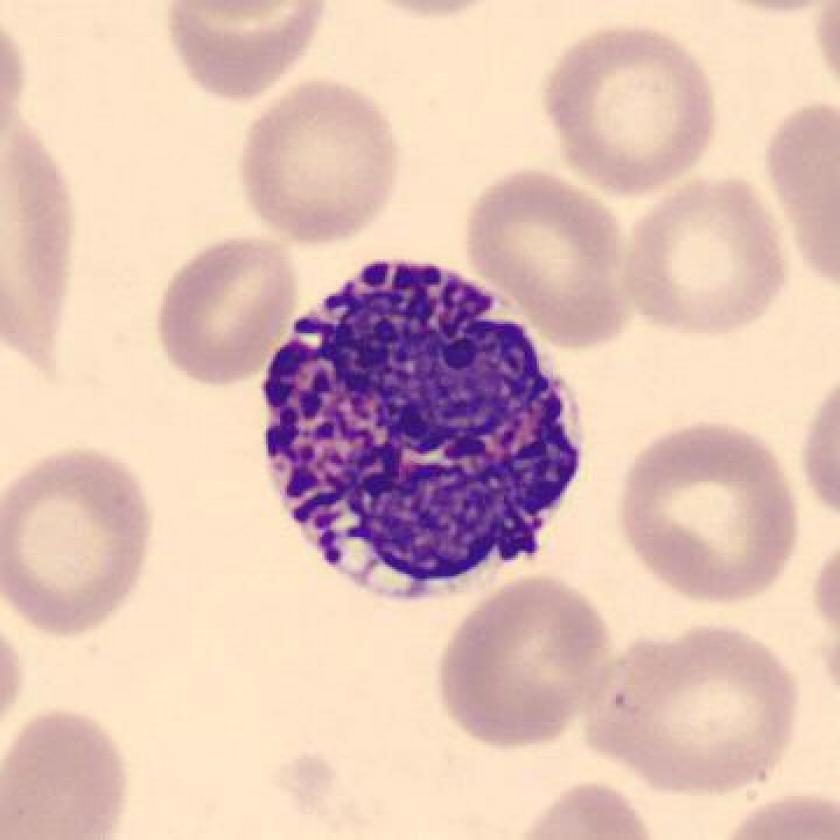basophil: (265, 249, 587, 600)
